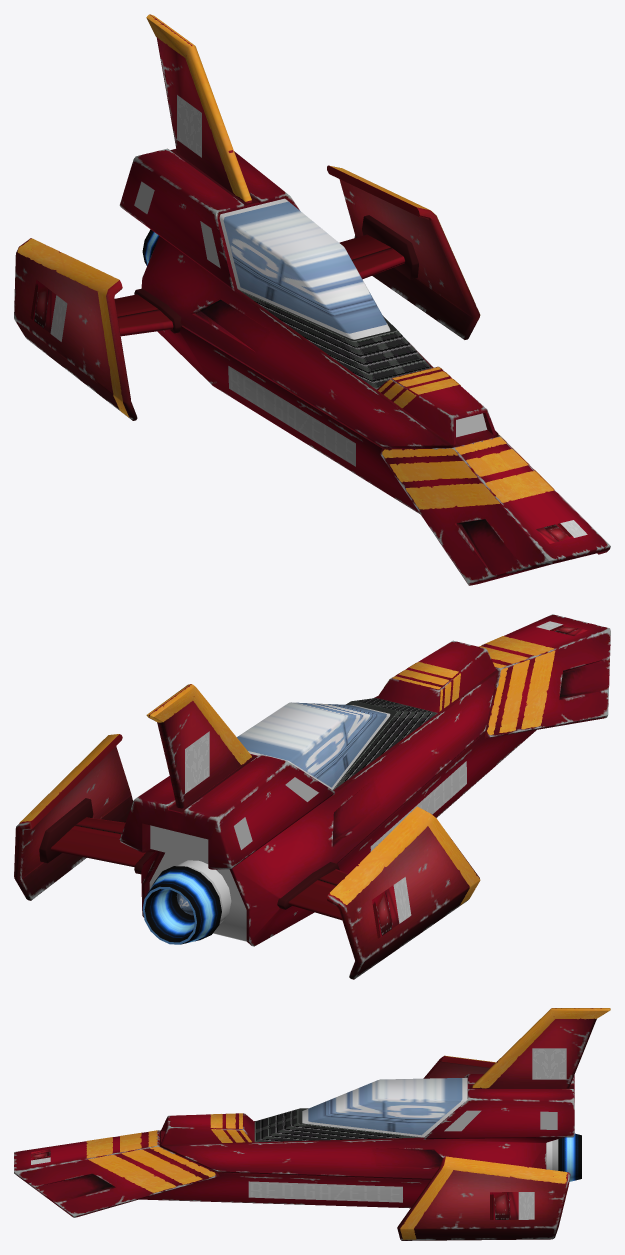
File: redGazzelle.obj
The picture shows the model from 3 angles, top to bottom: view 1: azimuth 30°, elevation 25°; view 2: azimuth 150°, elevation 25°; view 3: azimuth 270°, elevation 25°; orthographic projection. The views are drawn at different scales.
Visible parts, largest first — view 1: 01_redgazelle_a_gxmat19.003, 01_redgazelle_a_gxmat29.003, 01_redgazelle_a_gxmat22.004, 01_redgazelle_a_gxmat2.003, 01_redgazelle_a_gxmat6.004, 01_redgazelle_a_gxmat15.003, 01_redgazelle_a_gxmat17.003, 01_redgazelle_a_gxmat13.003, 01_redgazelle_a_gxmat4.002, 01_redgazelle_a_gxmat32.003, 01_redgazelle_a_gxmat14.003; view 2: 01_redgazelle_a_gxmat19.003, 01_redgazelle_a_gxmat29.003, 01_redgazelle_a_gxmat22.004, 01_redgazelle_a_gxmat2.003, 01_redgazelle_a_gxmat9.002, 01_redgazelle_a_gxmat6.004, 01_redgazelle_a_gxmat17.003, 01_redgazelle_a_gxmat12.002, 01_redgazelle_a_gxmat25.002, 01_redgazelle_a_gxmat15.003, 01_redgazelle_a_gxmat13.003, 01_redgazelle_a_gxmat32.003 (+3 smaller); view 3: 01_redgazelle_a_gxmat19.003, 01_redgazelle_a_gxmat29.003, 01_redgazelle_a_gxmat22.004, 01_redgazelle_a_gxmat2.003, 01_redgazelle_a_gxmat15.003, 01_redgazelle_a_gxmat6.004, 01_redgazelle_a_gxmat32.003, 01_redgazelle_a_gxmat13.003, 01_redgazelle_a_gxmat9.002, 01_redgazelle_a_gxmat4.002, 01_redgazelle_a_gxmat14.003, 01_redgazelle_a_gxmat11.002 (+2 smaller).
Part boxes in pixels (x1,y1,x2,y2): 01_redgazelle_a_gxmat19.003: [119, 148, 610, 585]; 01_redgazelle_a_gxmat29.003: [14, 14, 479, 420]; 01_redgazelle_a_gxmat22.004: [17, 14, 554, 509]; 01_redgazelle_a_gxmat2.003: [223, 201, 386, 333]; 01_redgazelle_a_gxmat6.004: [238, 289, 431, 389]; 01_redgazelle_a_gxmat15.003: [228, 366, 355, 466]; 01_redgazelle_a_gxmat17.003: [134, 215, 418, 333]; 01_redgazelle_a_gxmat13.003: [30, 279, 573, 543]; 01_redgazelle_a_gxmat4.002: [219, 198, 390, 339]; 01_redgazelle_a_gxmat32.003: [177, 95, 201, 157]; 01_redgazelle_a_gxmat14.003: [50, 295, 587, 537]; 01_redgazelle_a_gxmat19.003: [119, 614, 610, 946]; 01_redgazelle_a_gxmat29.003: [14, 684, 479, 979]; 01_redgazelle_a_gxmat22.004: [19, 636, 555, 905]; 01_redgazelle_a_gxmat2.003: [237, 702, 386, 787]; 01_redgazelle_a_gxmat9.002: [142, 866, 221, 944]; 01_redgazelle_a_gxmat6.004: [333, 698, 437, 790]; 01_redgazelle_a_gxmat17.003: [39, 798, 339, 909]; 01_redgazelle_a_gxmat12.002: [149, 852, 246, 941]; 01_redgazelle_a_gxmat25.002: [150, 825, 208, 862]; 01_redgazelle_a_gxmat15.003: [370, 761, 466, 851]; 01_redgazelle_a_gxmat13.003: [372, 624, 587, 938]; 01_redgazelle_a_gxmat32.003: [185, 731, 209, 793]; 01_redgazelle_a_gxmat19.003: [14, 1074, 574, 1217]; 01_redgazelle_a_gxmat29.003: [397, 1008, 601, 1240]; 01_redgazelle_a_gxmat22.004: [86, 1008, 610, 1239]; 01_redgazelle_a_gxmat2.003: [308, 1078, 462, 1135]; 01_redgazelle_a_gxmat15.003: [248, 1181, 402, 1202]; 01_redgazelle_a_gxmat6.004: [254, 1108, 423, 1142]; 01_redgazelle_a_gxmat32.003: [532, 1048, 566, 1079]; 01_redgazelle_a_gxmat13.003: [31, 1149, 518, 1219]; 01_redgazelle_a_gxmat9.002: [558, 1133, 581, 1181]; 01_redgazelle_a_gxmat4.002: [302, 1077, 467, 1137]; 01_redgazelle_a_gxmat14.003: [31, 1157, 534, 1219]; 01_redgazelle_a_gxmat11.002: [546, 1139, 558, 1170].
Bounding box in the file's own units: 2.49 × 1.8 × 5.22.
